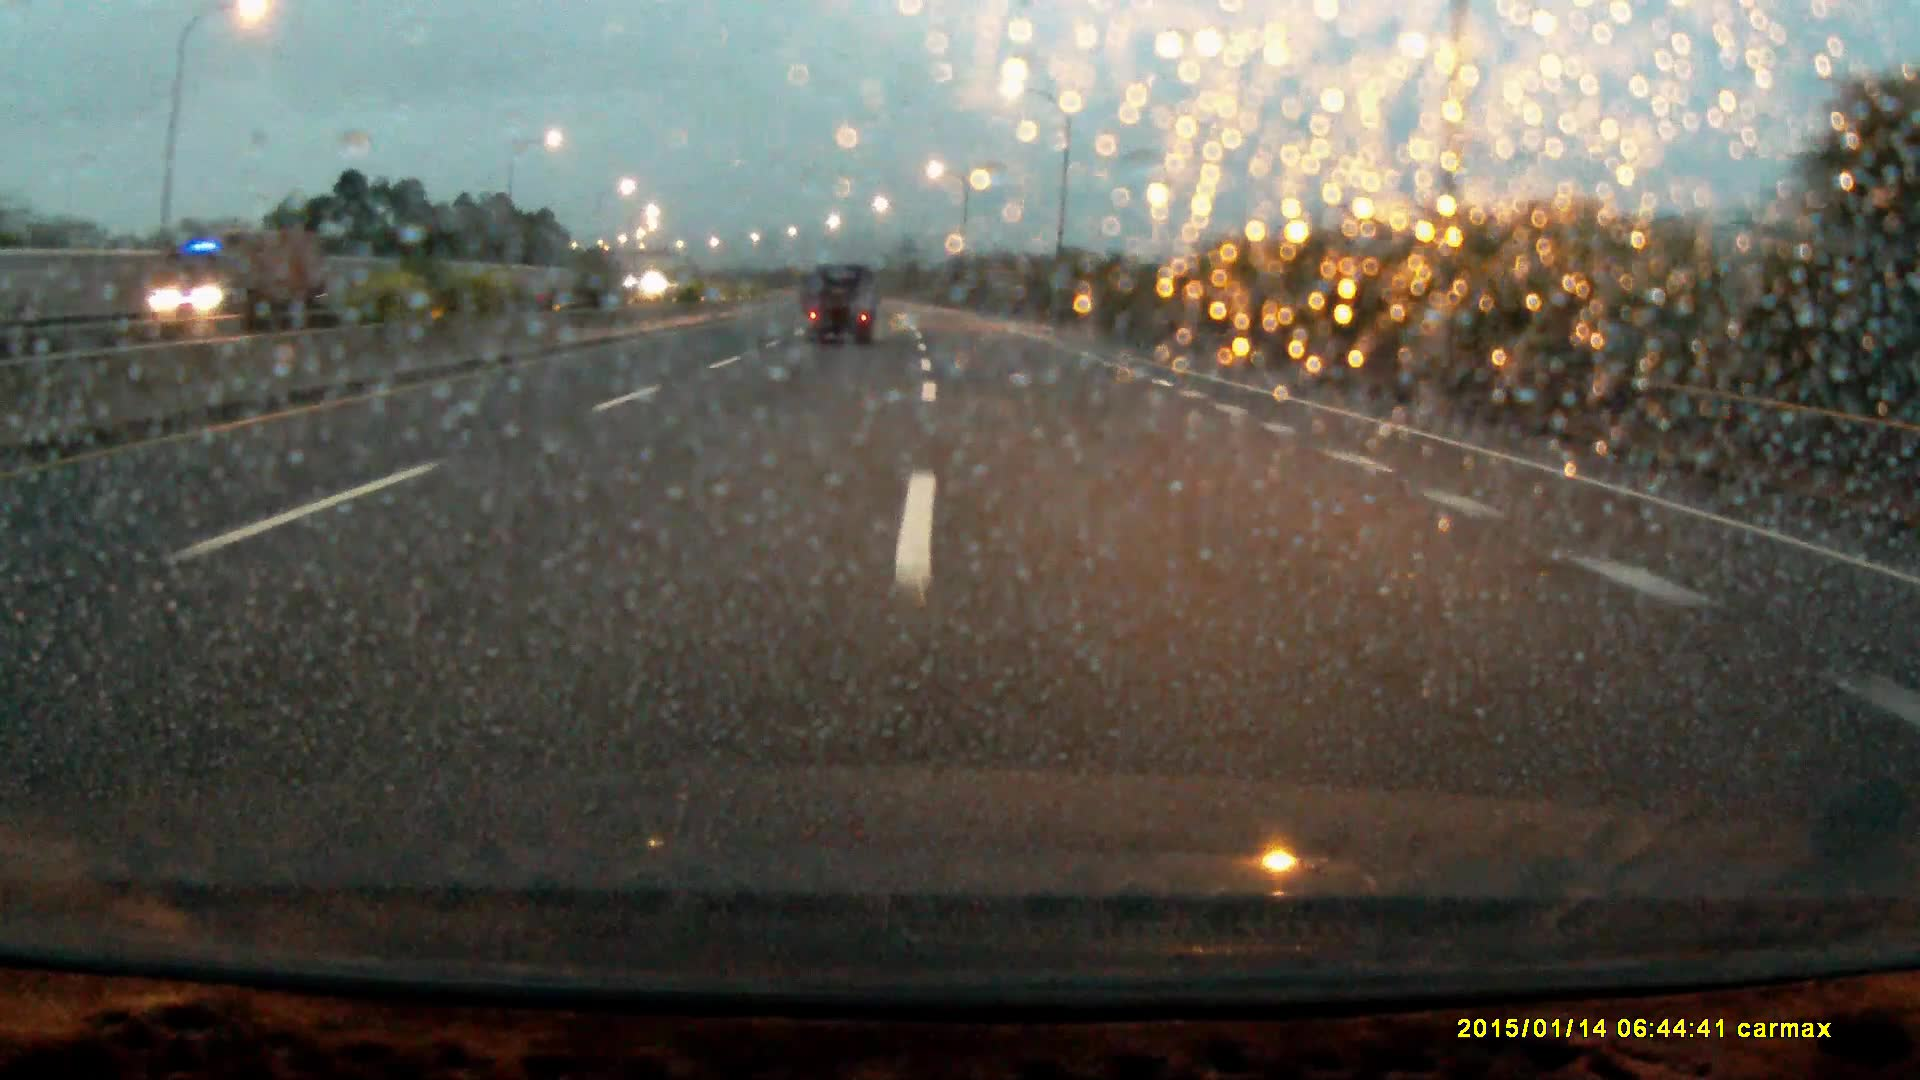vehicle: (119, 232, 315, 324), (800, 268, 878, 352)
